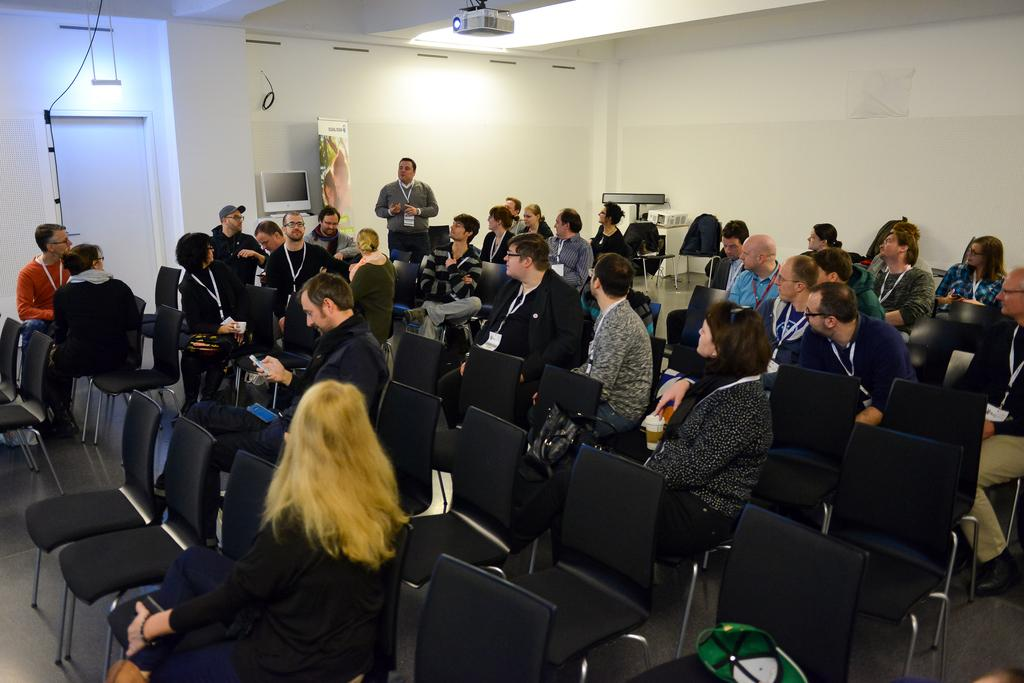Chair: (55, 417, 225, 682), (632, 498, 866, 682), (388, 404, 530, 673), (499, 441, 657, 682), (26, 390, 164, 661), (109, 446, 282, 657), (671, 440, 825, 661), (841, 420, 955, 682), (877, 378, 976, 654), (406, 551, 554, 682), (942, 347, 1023, 550), (433, 347, 530, 509), (84, 303, 185, 446), (0, 325, 65, 504), (186, 283, 273, 407), (513, 367, 604, 483), (761, 361, 860, 467), (234, 295, 319, 416), (75, 299, 147, 440), (375, 378, 442, 523), (390, 329, 442, 505), (661, 282, 728, 378), (904, 315, 990, 384), (0, 312, 36, 467), (671, 220, 724, 290), (140, 263, 180, 346), (474, 258, 509, 327), (945, 296, 1011, 331), (624, 222, 664, 273), (391, 259, 416, 317)
